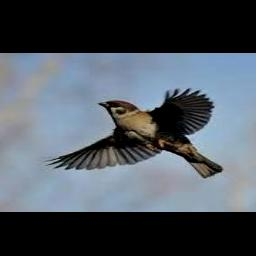Sparrow: (44, 87, 222, 178)
